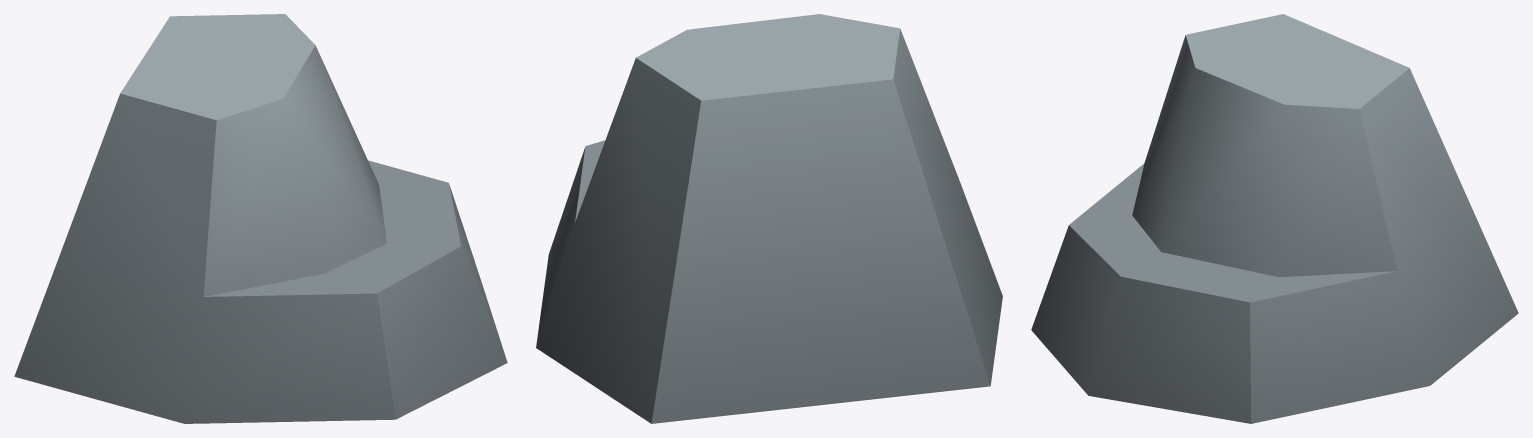
Rendered from hex_rock_single_c.glb.
3 views of the same model, side by side, from view 1: azimuth 30°, elevation 25°; view 2: azimuth 150°, elevation 25°; view 3: azimuth 270°, elevation 25° (orthographic). The views are drawn at different scales.
Visible parts, largest first — view 1: hex_rock_single_c; view 2: hex_rock_single_c; view 3: hex_rock_single_c.
Part boxes in pixels (x1,y1,x2,y2): hex_rock_single_c: [14, 14, 507, 423]; hex_rock_single_c: [536, 14, 1002, 423]; hex_rock_single_c: [1031, 14, 1518, 423].
Size of the model in its own units: 0.172 by 0.0974 by 0.1721.
1 material, 1 textured.
